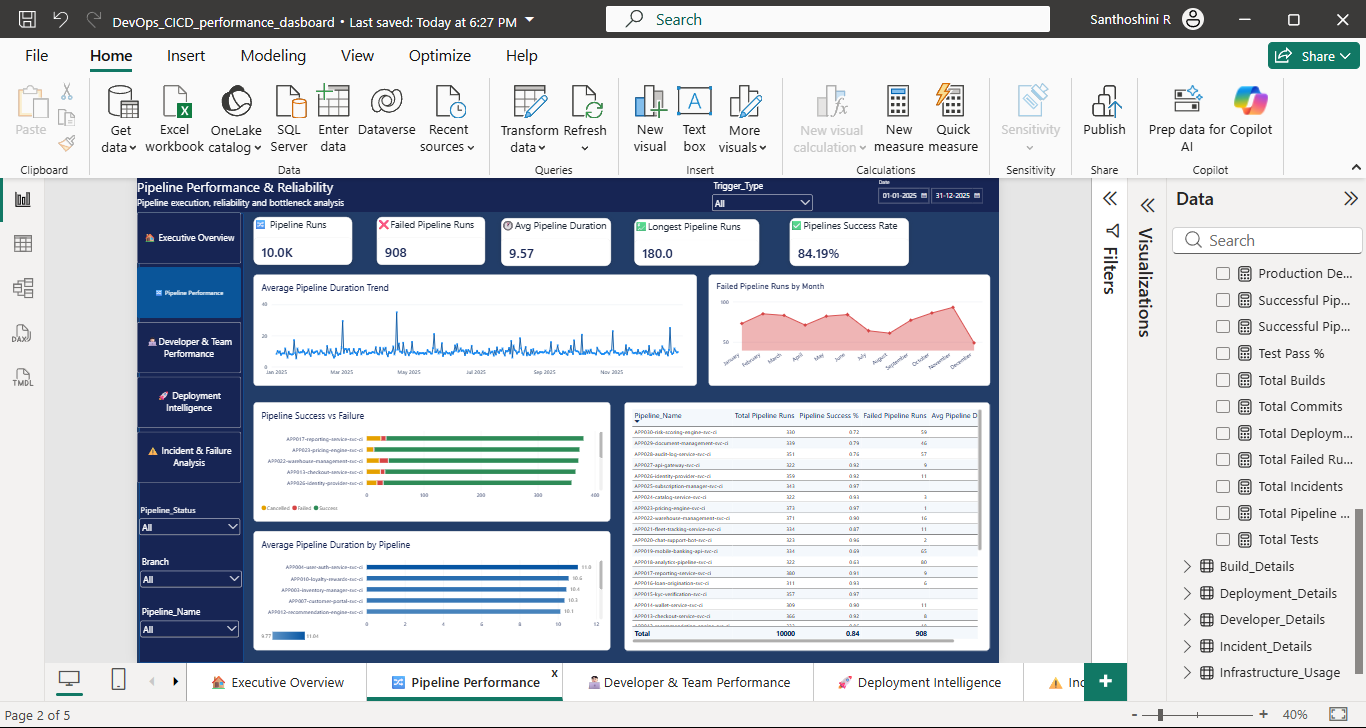

The dashboard page shown, as its layout file describes it:
{"tool":"powerbi","page":{"name":"🔀 Pipeline Performance","canvas":[1920,1080],"ordinal":1},"visuals":[{"type":"shape","box":[6.1,79.5,232.4,999.8],"z":1000},{"type":"shape","title":"Pipeline Performance & Reliability","box":[0,0,1920.3,75.4],"z":2000},{"type":"slicer","title":"Data","fields":{"Values":["Pipeline_Runs.Run_Date"]},"box":[1645,0,253.8,76.4],"z":3000},{"type":"slicer","title":"Pipeline Names","fields":{"Values":["Pipeline_Runs.Pipeline_Name"]},"box":[3.1,950.9,229.6,75.7],"z":4000},{"type":"slicer","title":"Trigger Type","fields":{"Values":["Pipeline_Runs.Trigger_Type"]},"box":[1275,3.1,233.8,77.9],"z":5000},{"type":"slicer","title":"Branch","fields":{"Values":["Pipeline_Runs.Branch"]},"box":[3.1,840.8,235.4,76.4],"z":6000},{"type":"slicer","title":"Pipeline Status","fields":{"Values":["Pipeline_Runs.Pipeline_Status"]},"box":[0,727.7,234.6,75.7],"z":7000},{"type":"cardVisual","title":"🔀 Pipeline Runs ","fields":{"Data":["Application_Details.Total Pipelines"]},"box":[259.9,85.6,220.1,107],"z":8000},{"type":"pageNavigator","box":[0,76.4,232.4,602.4],"z":9000},{"type":"cardVisual","title":"✅Pipelines Success Rate","fields":{"Data":["Application_Details.Pipeline Success %"]},"box":[1452.4,88.7,266,107],"z":10000},{"type":"cardVisual","title":"❌Failed Pipeline Runs","fields":{"Data":["Application_Details.Failed Pipeline Runs"]},"box":[535.1,85.6,241.6,107],"z":11000},{"type":"cardVisual","title":"🕐Avg Pipeline Duration","fields":{"Data":["Application_Details.Avg Pipeline Duration"]},"box":[810.3,88.7,244.6,107],"z":12000},{"type":"cardVisual","title":"💹Longest Pipeline Runs","fields":{"Data":["Application_Details.Longest Pipeline Run"]},"box":[1106.9,91.7,278.2,104],"z":13000},{"type":"lineChart","title":"Average Pipeline Duration Trend","fields":{"Category":["Pipeline_Runs.Run_Date.Variation.Date Hierarchy.Year","Pipeline_Runs.Run_Date.Variation.Date Hierarchy.Month","Pipeline_Runs.Run_Date.Variation.Date Hierarchy.Day"],"Y":["Avg(Pipeline_Runs.Pipeline_Duration_Minutes)"]},"box":[259.9,214,987.6,247.7],"z":14000},{"type":"areaChart","title":"Failed Pipeline Runs by Month","fields":{"Category":["Pipeline_Runs.Run_Date.Variation.Date Hierarchy.Month"],"Y":["Application_Details.Failed Pipeline Runs"]},"box":[1272,214,626.8,247.7],"z":15000},{"type":"barChart","title":"Pipeline Success vs Failure","fields":{"Category":["Pipeline_Runs.Pipeline_Name"],"Series":["Pipeline_Runs.Pipeline_Status"],"Y":["CountNonNull(Pipeline_Runs.Pipeline_ID)"]},"box":[259.9,498.4,795,266],"z":16000},{"type":"clusteredBarChart","title":"Average Pipeline Duration by Pipeline","fields":{"Category":["Pipeline_Runs.Pipeline_Name"],"Y":["Application_Details.Avg Pipeline Duration"]},"box":[259.9,785.8,795,266],"z":17000},{"type":"tableEx","fields":{"Values":["Pipeline_Runs.Pipeline_Name","Application_Details.Total Pipelines","Application_Details.Pipeline Success %","Application_Details.Failed Pipeline Runs","Application_Details.Avg Pipeline Duration"]},"box":[1085.5,498.4,813.3,553.4],"z":18000}]}

Visuals, with their boxes on the page's 1920x1080 design canvas (x1, y1, x2, y2). These are canvas units, not pixel positions in the 1366x728 screenshot, which may show the page scaled, cropped or inside an application window:
shape: l=6, t=80, r=238, b=1079
"Pipeline Performance & Reliability" shape: l=0, t=0, r=1920, b=75
"Data" slicer: l=1645, t=0, r=1899, b=76
"Pipeline Names" slicer: l=3, t=951, r=233, b=1027
"Trigger Type" slicer: l=1275, t=3, r=1509, b=81
"Branch" slicer: l=3, t=841, r=238, b=917
"Pipeline Status" slicer: l=0, t=728, r=235, b=803
"🔀 Pipeline Runs " cardVisual: l=260, t=86, r=480, b=193
pageNavigator: l=0, t=76, r=232, b=679
"✅Pipelines Success Rate" cardVisual: l=1452, t=89, r=1718, b=196
"❌Failed Pipeline Runs" cardVisual: l=535, t=86, r=777, b=193
"🕐Avg Pipeline Duration" cardVisual: l=810, t=89, r=1055, b=196
"💹Longest Pipeline Runs" cardVisual: l=1107, t=92, r=1385, b=196
"Average Pipeline Duration Trend" lineChart: l=260, t=214, r=1248, b=462
"Failed Pipeline Runs by Month" areaChart: l=1272, t=214, r=1899, b=462
"Pipeline Success vs Failure" barChart: l=260, t=498, r=1055, b=764
"Average Pipeline Duration by Pipeline" clusteredBarChart: l=260, t=786, r=1055, b=1052
tableEx - Pipeline_Runs.Pipeline_Name x Application_Details.Total Pipelines: l=1086, t=498, r=1899, b=1052
